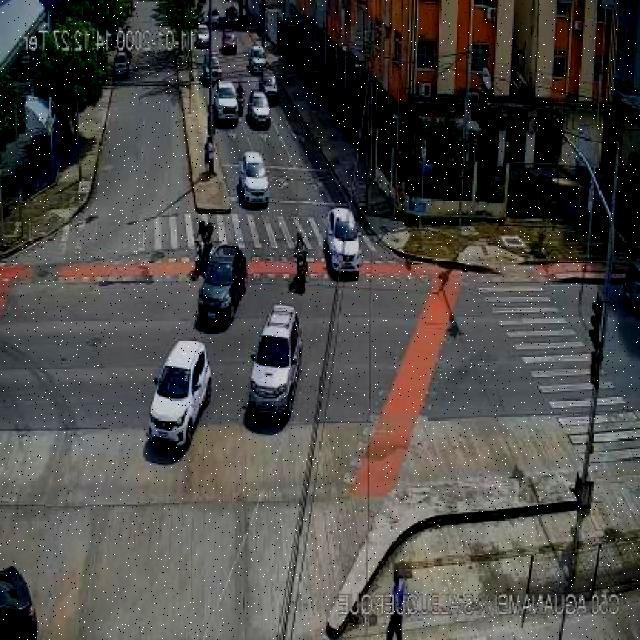Car: (146, 340, 212, 452), (246, 306, 302, 425), (196, 243, 248, 329), (325, 206, 364, 281), (239, 150, 270, 204), (212, 82, 241, 126), (246, 90, 272, 128), (259, 73, 279, 103), (201, 56, 222, 84), (113, 51, 131, 79), (248, 45, 266, 73), (221, 30, 237, 54), (195, 23, 210, 48)
